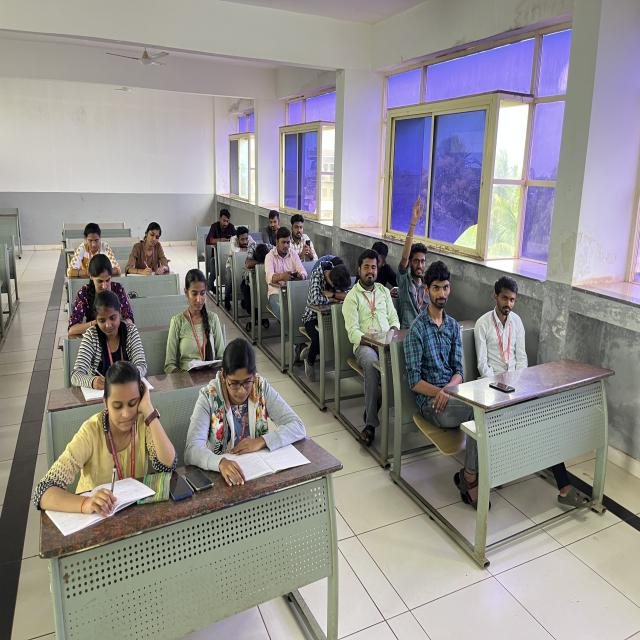Hand Rising: (397, 188, 433, 320)
Reading: (27, 358, 188, 521), (183, 332, 328, 502), (165, 262, 230, 376), (62, 222, 125, 282)
Sleeping: (302, 260, 355, 330), (245, 238, 277, 279), (228, 225, 254, 267)
Using Phone: (263, 225, 306, 288), (286, 212, 320, 266), (206, 207, 240, 248)
Writing: (68, 288, 155, 396), (125, 220, 174, 278)
